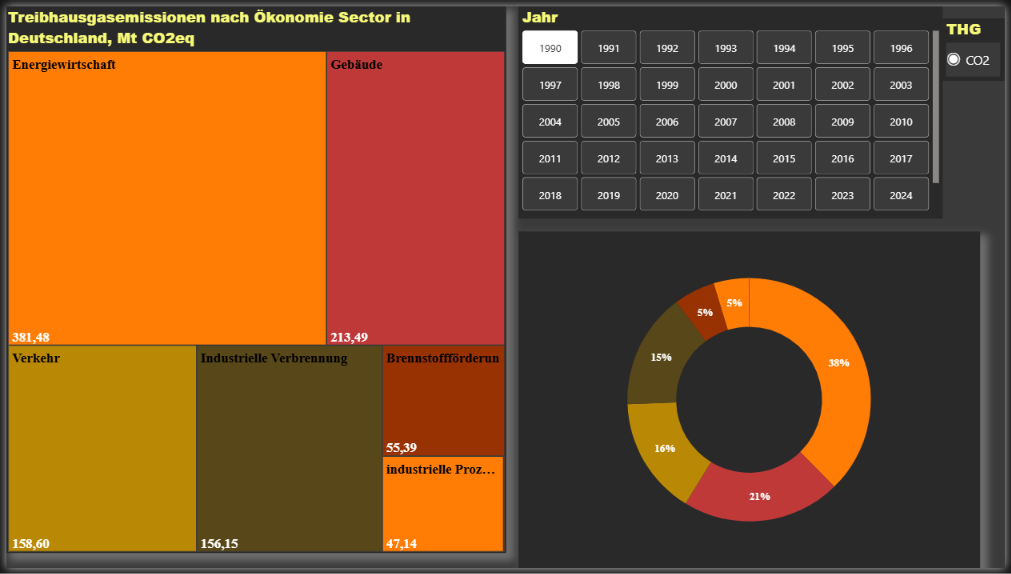

Layout of this report page (visuals, bound fields, positions):
{"tool":"powerbi","page":{"name":"Deutschland_nach_Wirtschaft","canvas":[1280,720],"ordinal":5},"visuals":[{"type":"treemap","title":"Treibhausgasemissionen nach Ökonomie Sector in Deutschland,  Mt CO2eq","fields":{"Group":["dim_sector.Sector"],"Values":["fact_GHG.Total THG"]},"box":[0,0,640.6,701.2],"z":0},{"type":"donutChart","title":"  Treibhausgasemissionen nach Ökonomie Sector in Deutschland, 2000-2024, Mt CO2eq","fields":{"Category":["dim_sector.Sector"],"Y":["fact_GHG.Total THG"],"Series":["dim_country.Country Code"]},"box":[656,288,592,432],"z":1000},{"type":"listSlicer","title":"THG","fields":{"Values":["dim_GHG.ID_GHG"]},"box":[1200,16,80,80],"z":2000},{"type":"advancedSlicerVisual","fields":{"Values":["dim_year.Jahr"]},"box":[656,0,544,272],"z":3000}]}

Visuals, with their boxes in screenshot pixels (x1, y1, x2, y2), scaled from the page's 1280x720 canvas onto the 1011x574 screenshot:
"Treibhausgasemissionen nach Ökonomie Sector in Deutschland,  Mt CO2eq" treemap: left=0, top=0, right=506, bottom=559
"  Treibhausgasemissionen nach Ökonomie Sector in Deutschland, 2000-2024, Mt CO2eq" donutChart: left=518, top=230, right=986, bottom=573
"THG" listSlicer: left=948, top=13, right=1010, bottom=77
advancedSlicerVisual - dim_year.Jahr: left=518, top=0, right=948, bottom=217
